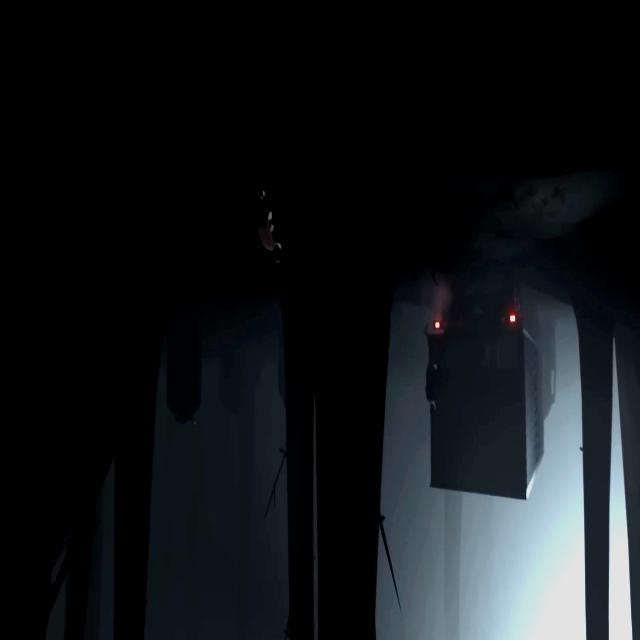boy: (258, 183, 283, 263)
human: (424, 328, 438, 416)
